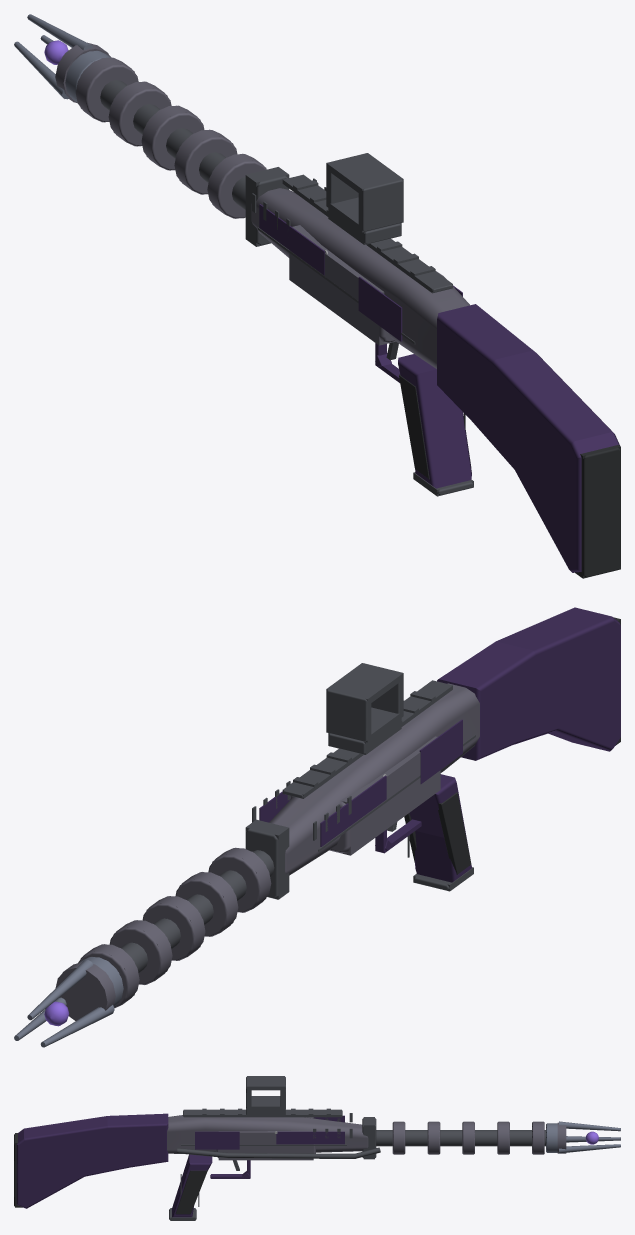
File: qphase.glb
The picture shows the model from 3 angles, top to bottom: view 1: azimuth 30°, elevation 25°; view 2: azimuth 150°, elevation 25°; view 3: azimuth 270°, elevation 25°; orthographic projection. The views are drawn at different scales.
Parts seen in each view (by area): view 1: L0, L1; view 2: L0, L1; view 3: L0, L1.
Part boxes in pixels (bbox=[...]): L0: bbox=[14, 14, 620, 577]; L1: bbox=[15, 14, 620, 578]; L0: bbox=[14, 607, 620, 1047]; L1: bbox=[14, 618, 620, 1046]; L0: bbox=[14, 1076, 620, 1219]; L1: bbox=[15, 1076, 620, 1220].
Bounding box in the file's own units: 0.069 × 0.2349 × 0.958.
